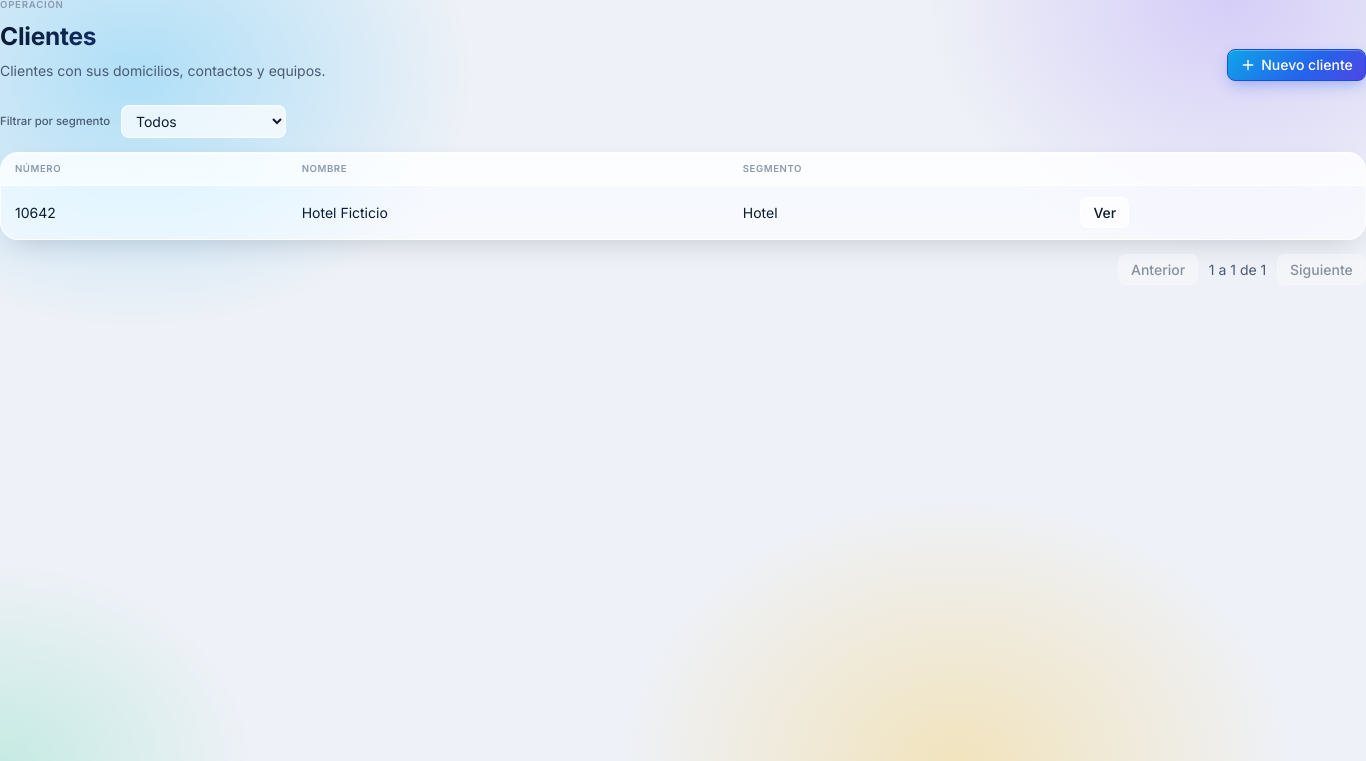
Test case: ClientsPage › equipos (E03-03) › muestra el error del backend al guardar
Click the button with aria-label "Ver Hotel Ficticio".
click(1105, 213)  # box [1080, 197, 1130, 228]
(page scrolled)
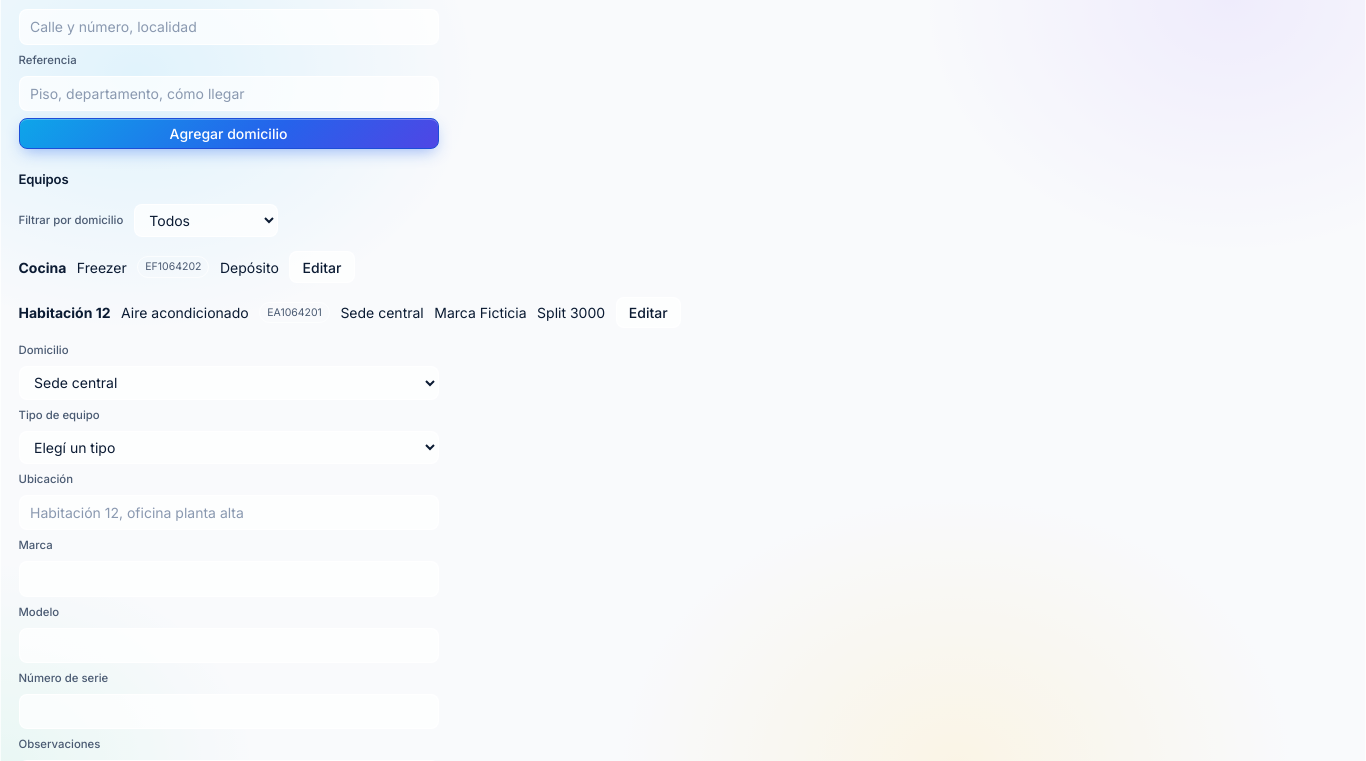
Select "Sede central" in the dropdown labelled "Domicilio" at (228, 383), box [18, 366, 438, 400]
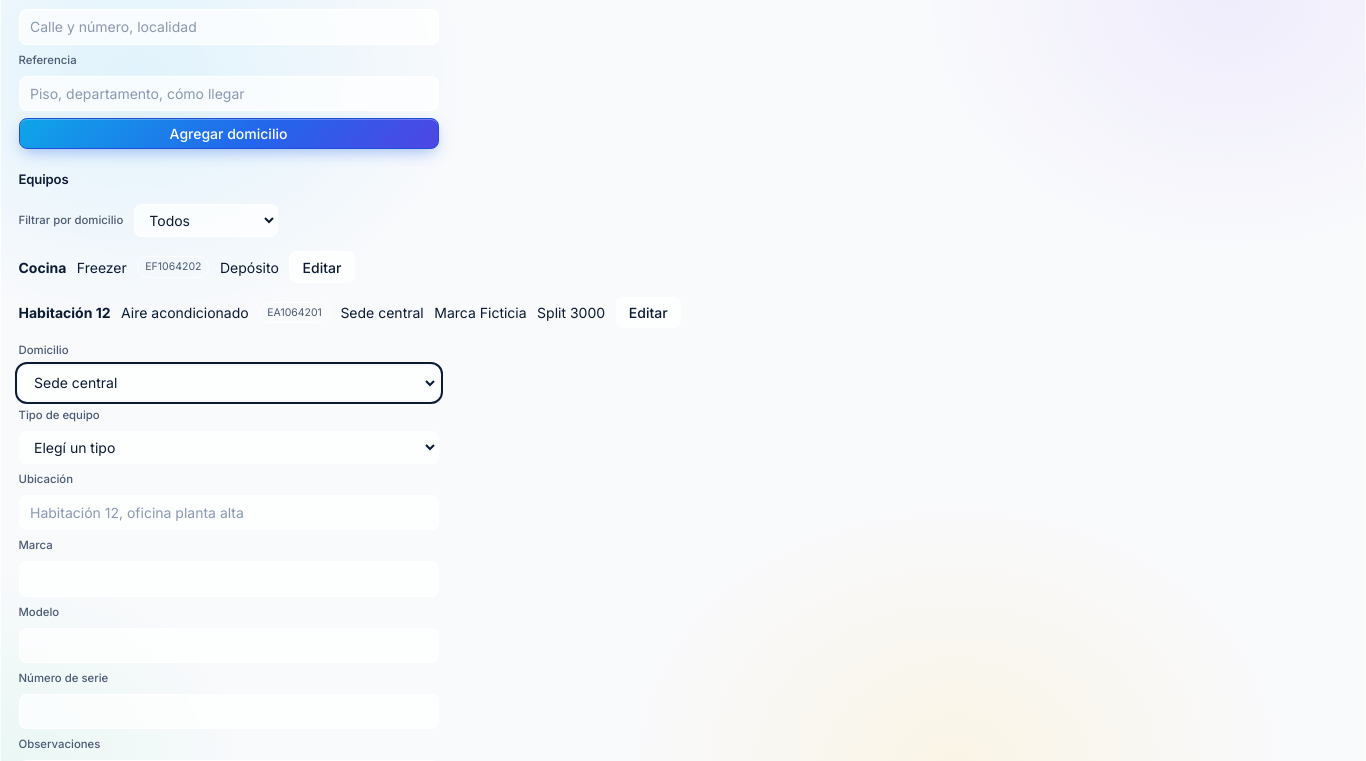
Select "Aire acondicionado" in the dropdown labelled "Tipo de equipo" at (228, 447), box [18, 431, 438, 464]
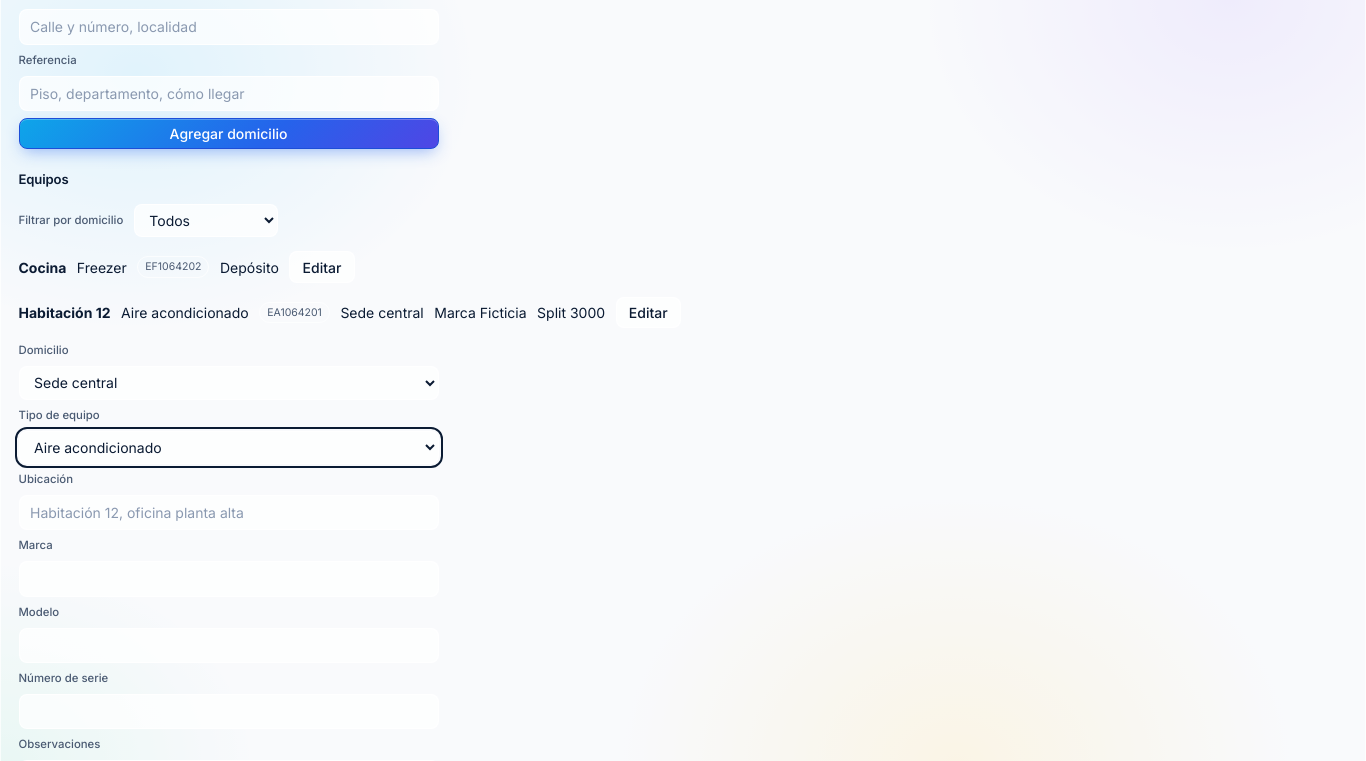
Type "Oficina" into the field labelled "Ubicación".
click(228, 513); type("Oficina")  # box [18, 495, 438, 530]
(page scrolled)
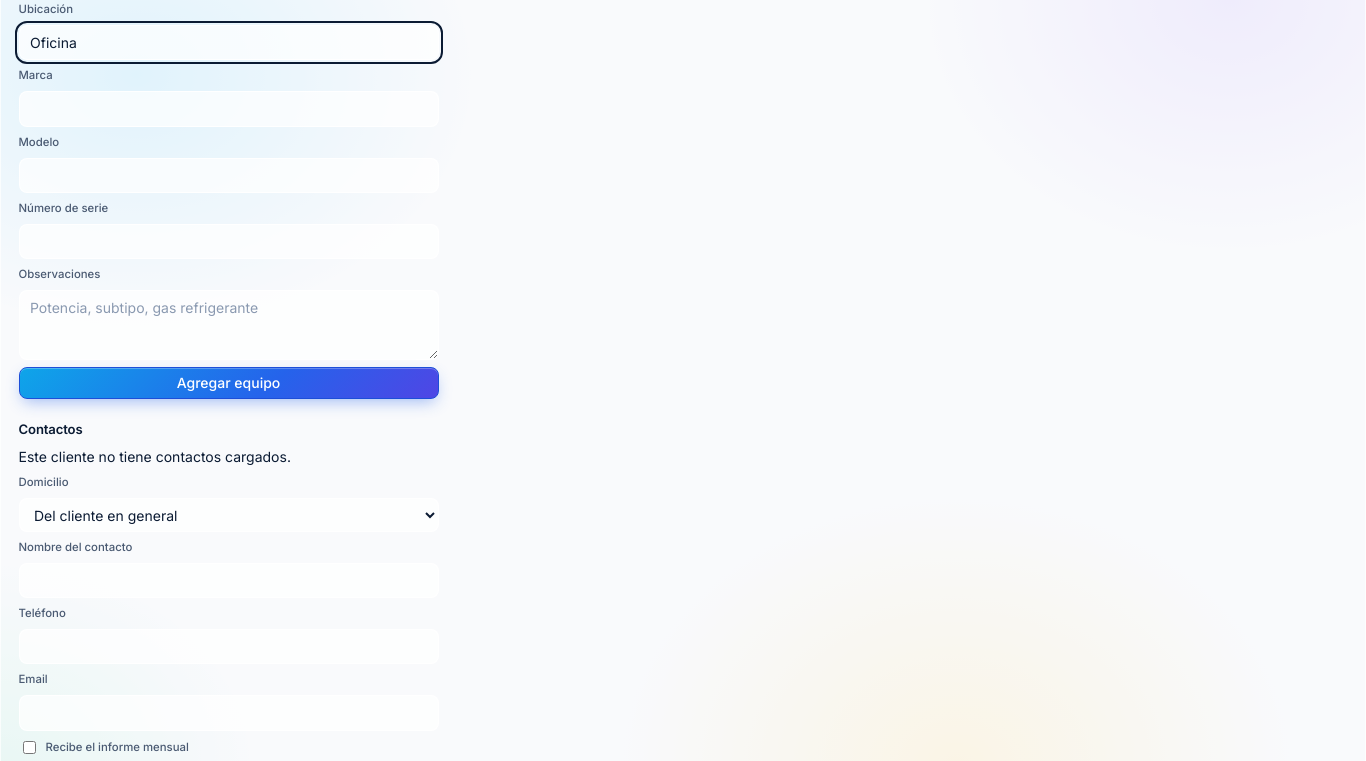
Click the button "Agregar equipo".
click(228, 383)  # box [18, 367, 438, 399]
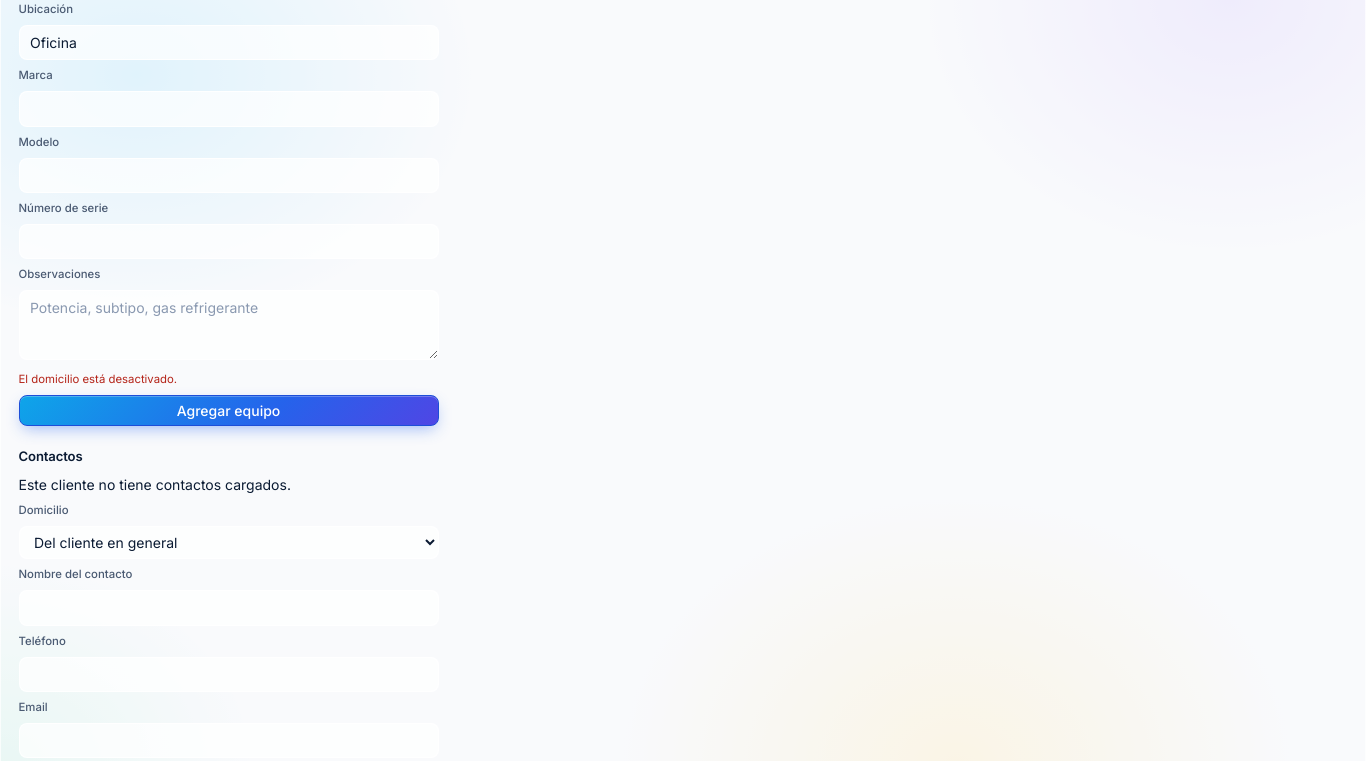
Expected: the text "El domicilio está desactivado." is shown, [18, 372, 177, 386]
